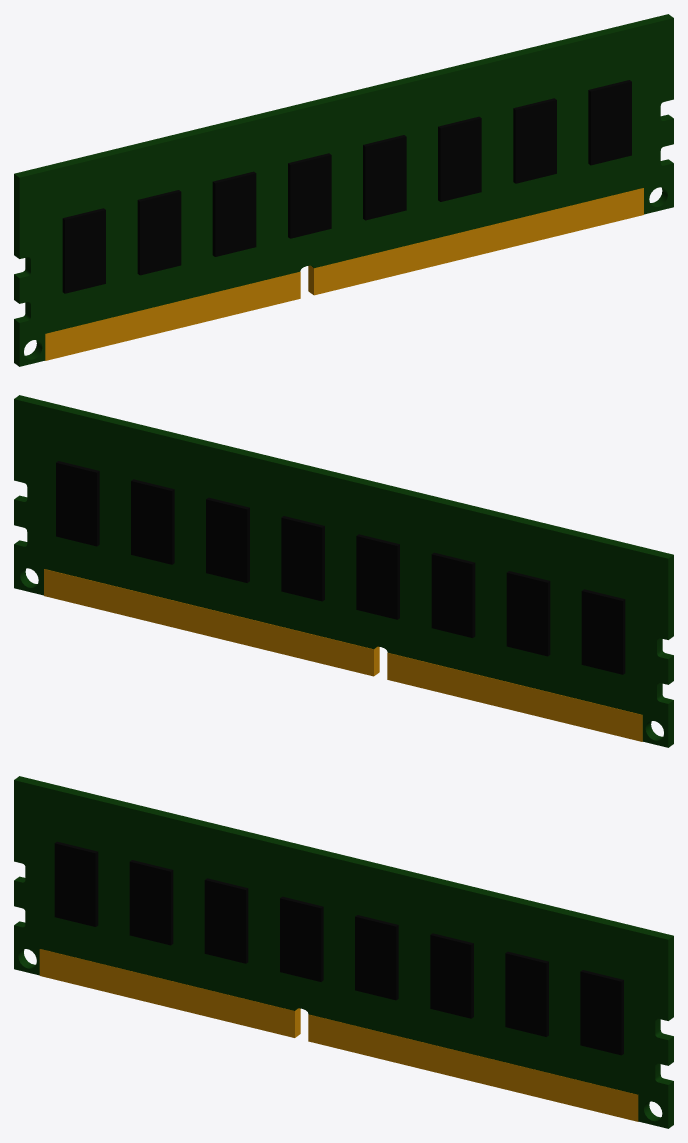
Rendered from ram.FBX.
3 views of the same model, one above another, from view 1: azimuth 30°, elevation 25°; view 2: azimuth 150°, elevation 25°; view 3: azimuth 330°, elevation 25° (orthographic).
Visible parts, largest first — view 1: ram007; view 2: ram007; view 3: ram007.
Part boxes in pixels (bbox=[...]): ram007: bbox=[14, 14, 673, 366]; ram007: bbox=[14, 395, 673, 747]; ram007: bbox=[14, 776, 673, 1128].
Size of the model in its own units: 31.08 by 8.6 by 0.8585.
